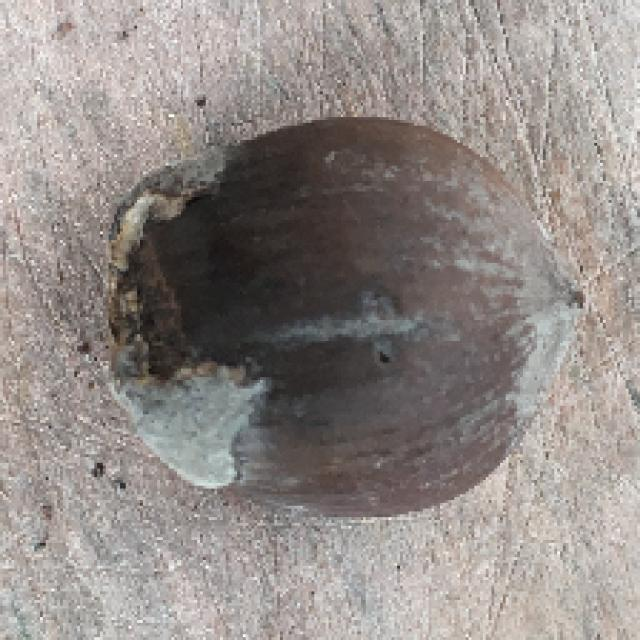DamagedHazelnut: (84, 123, 590, 525)
